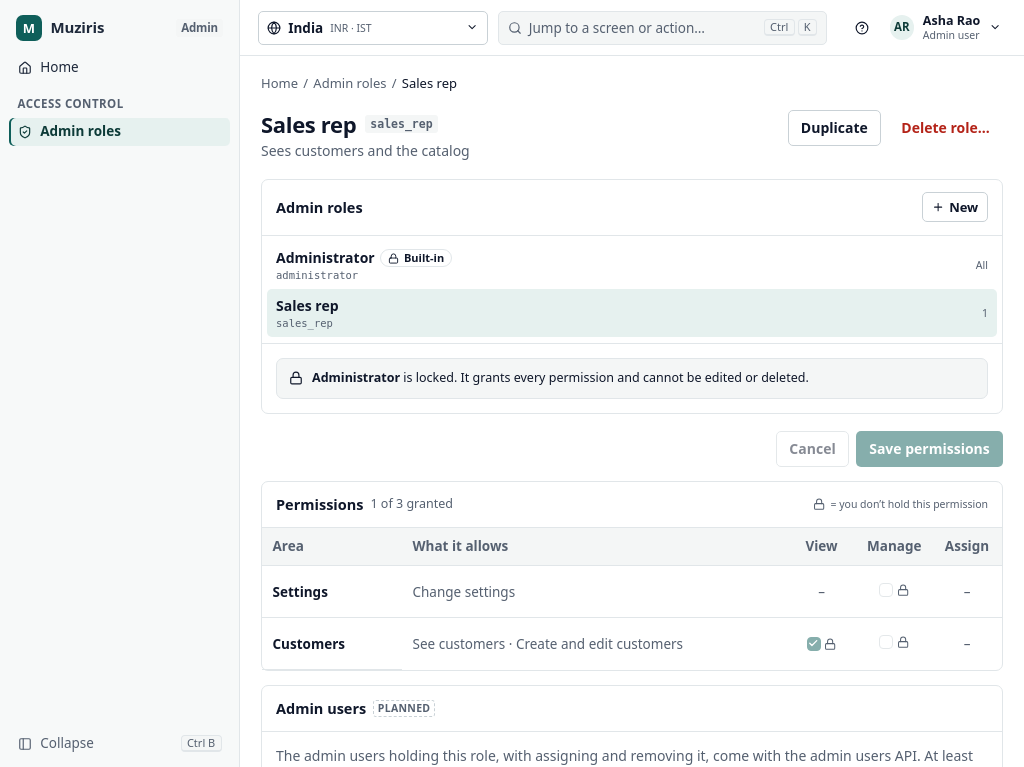
it: admin role permission matrix › keeps the confirm dialog open and shows the refusal when a delete is refused
The image size is (1024, 767).
Click the button "Delete role…" at (946, 128), box [888, 110, 1003, 146]
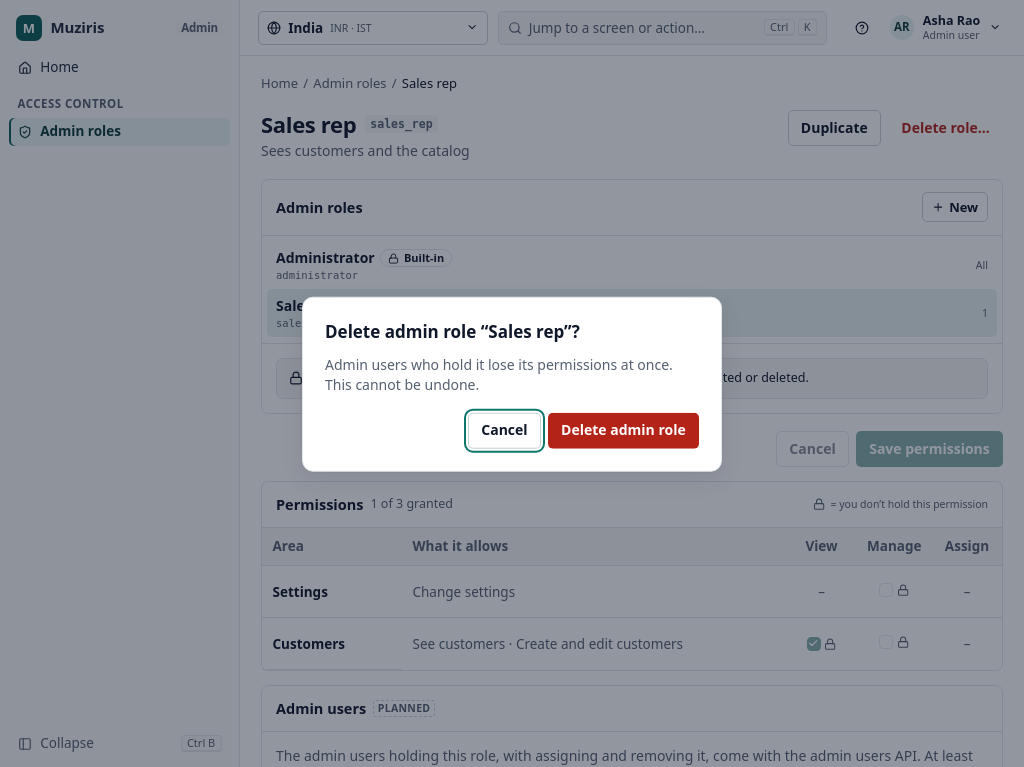
Click the button "Delete admin role" at (623, 430), box [548, 412, 699, 448]
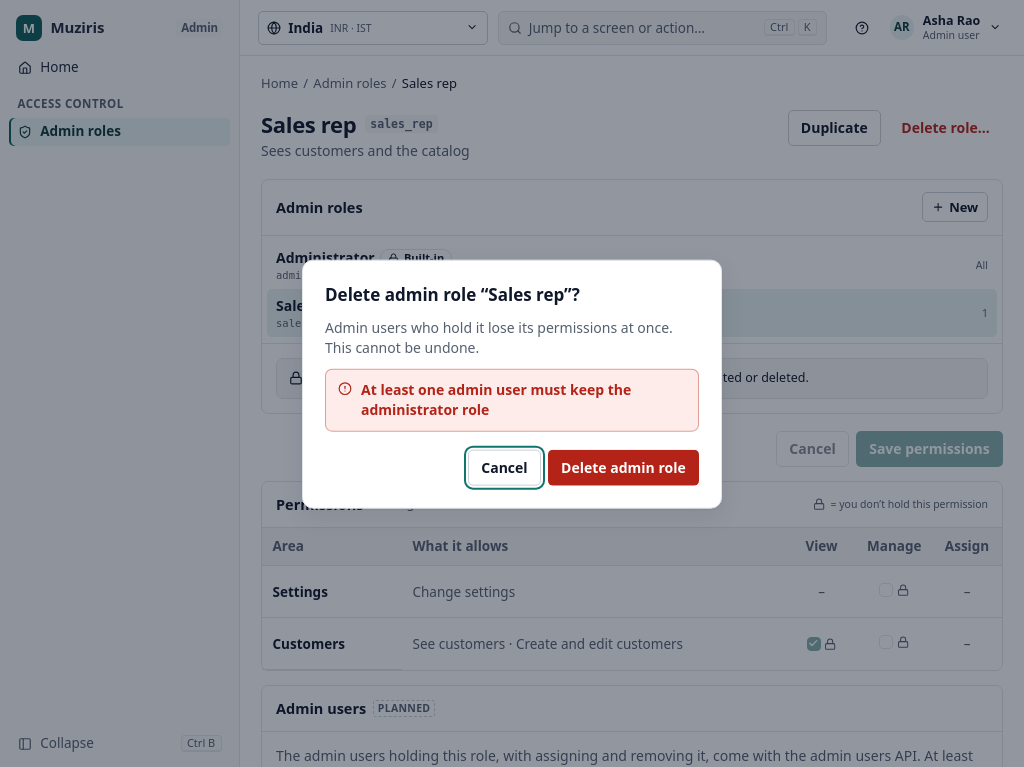
Expected: the text "At least one admin user must keep the administrator role" is shown, [361, 380, 631, 419]
